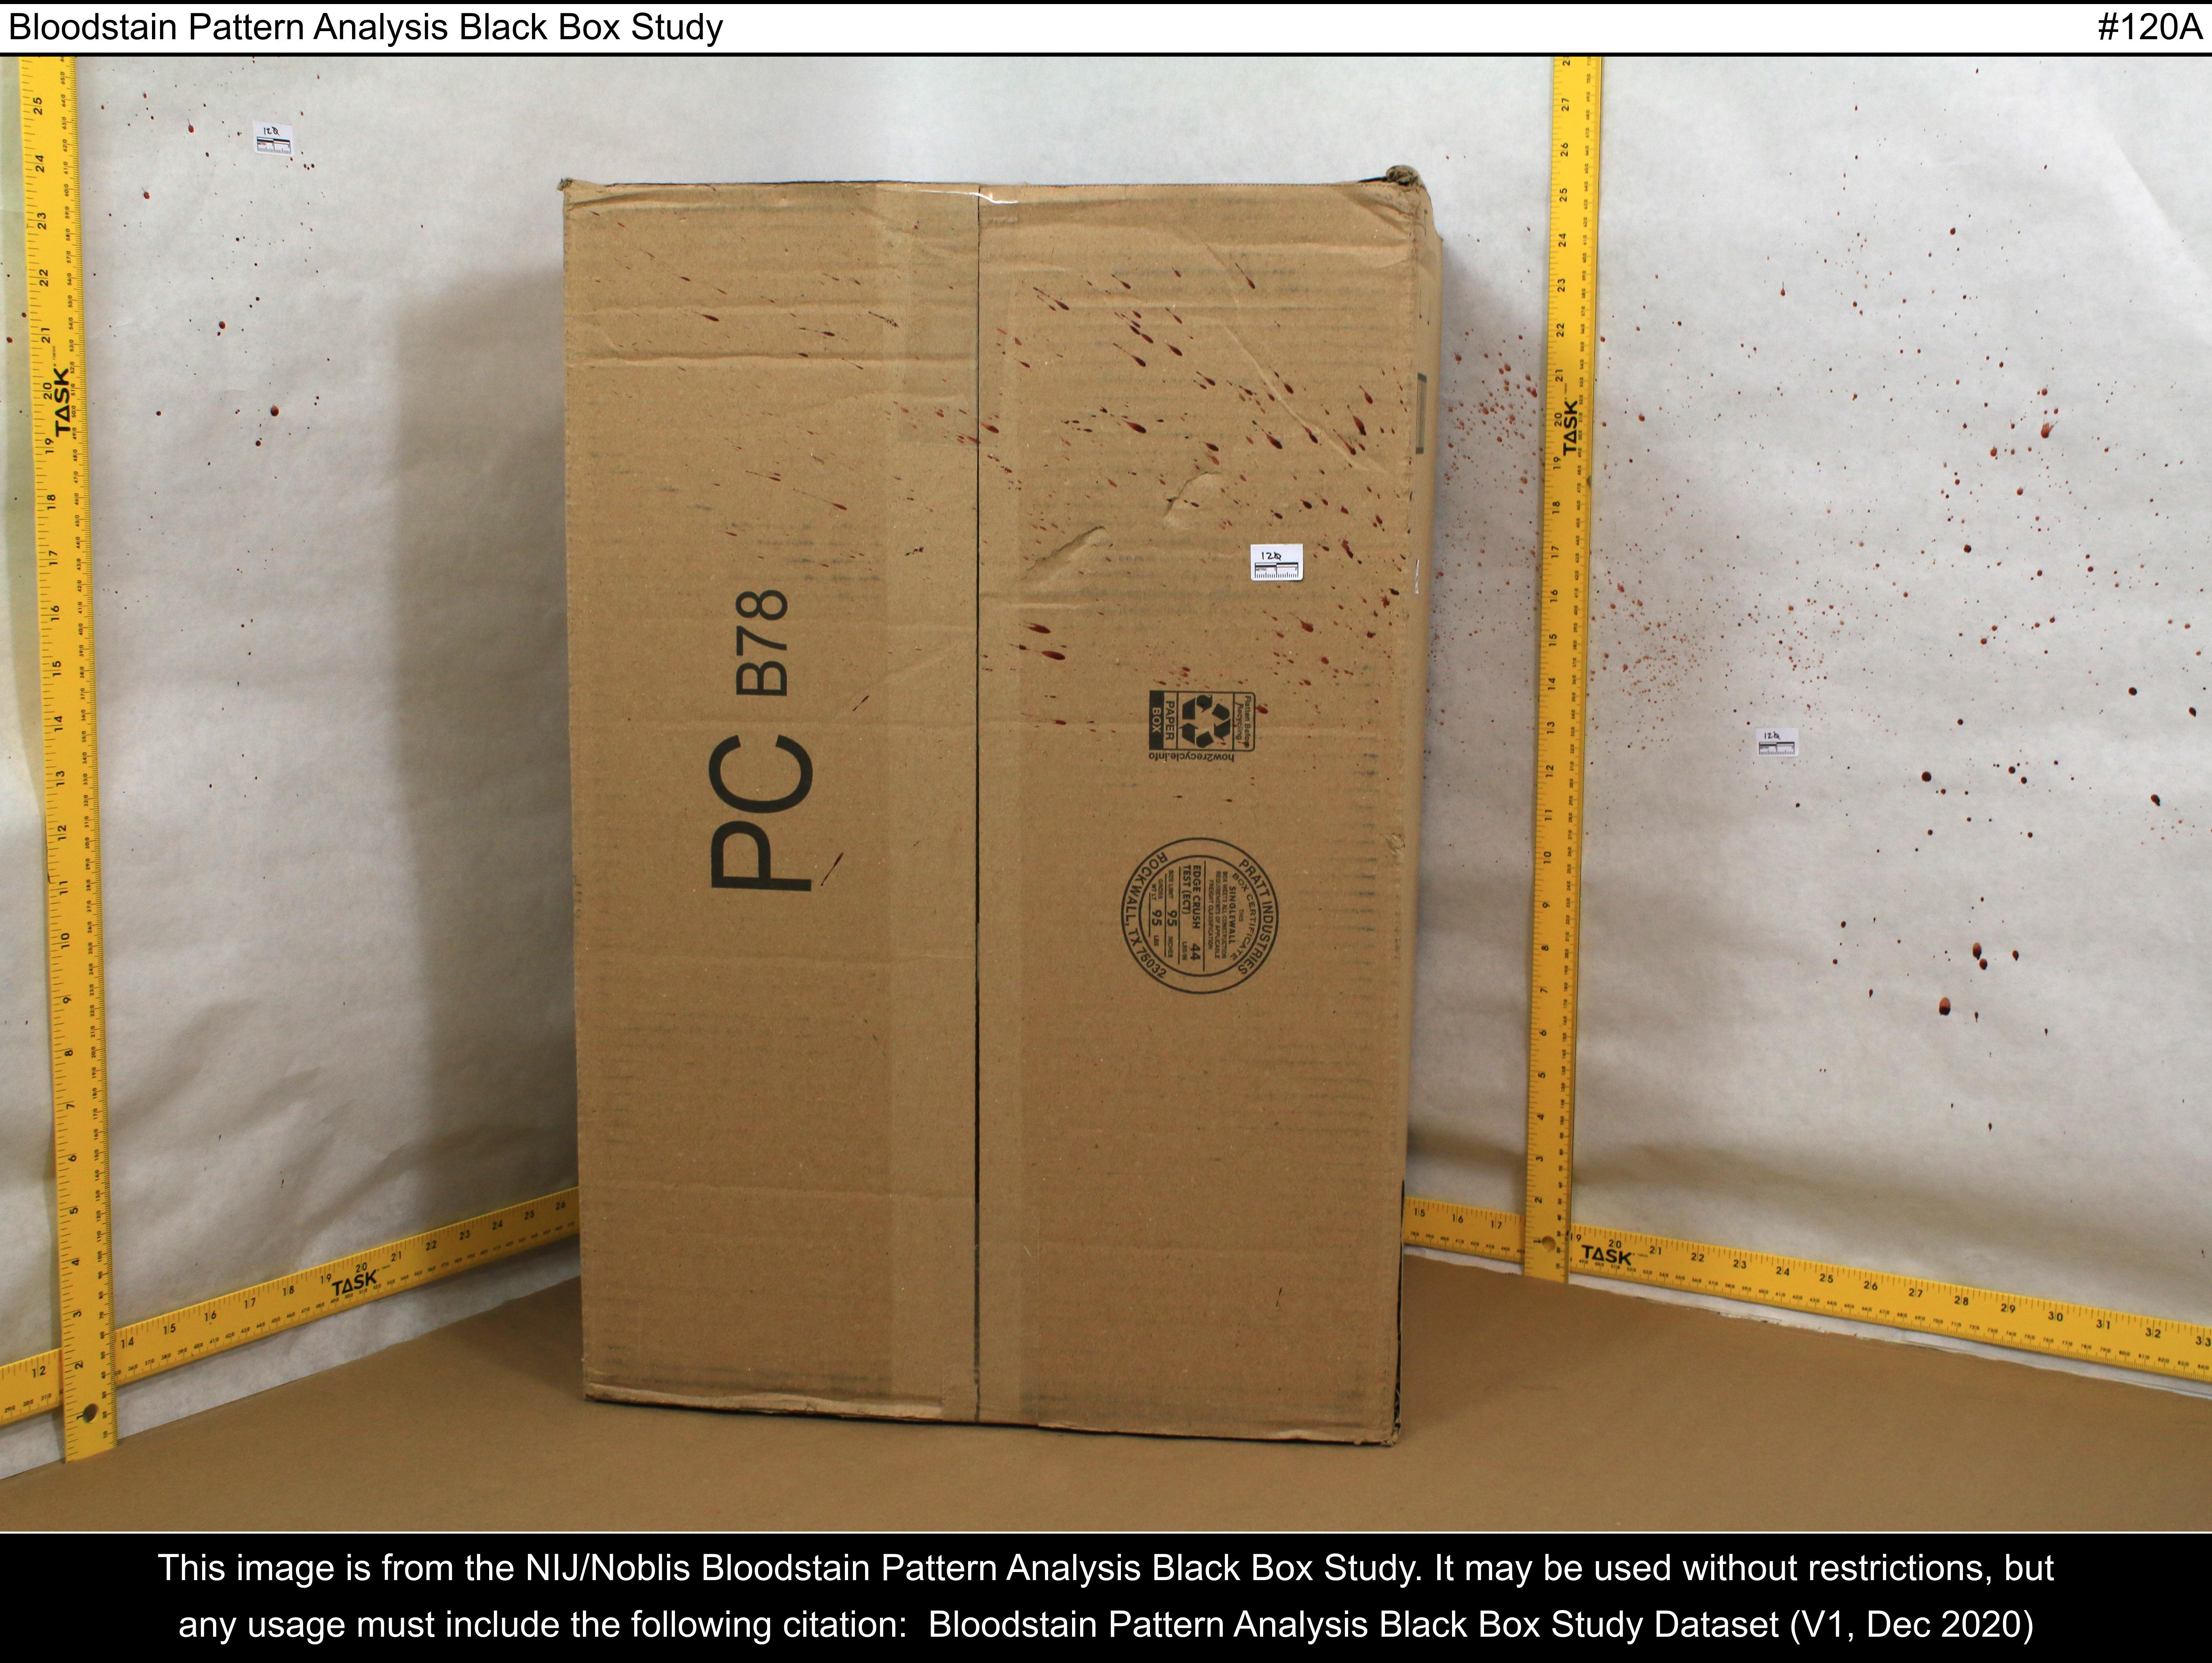Impact: (1114, 292, 1728, 725)
